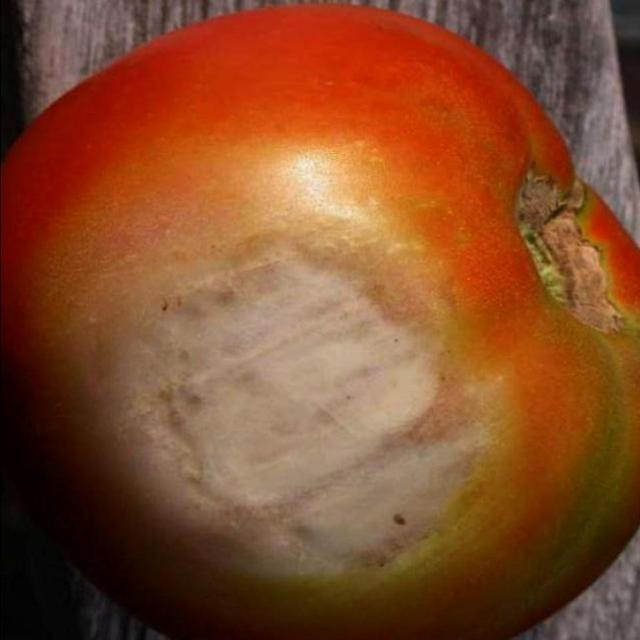Sunscald Fruit: (44, 108, 347, 393)
